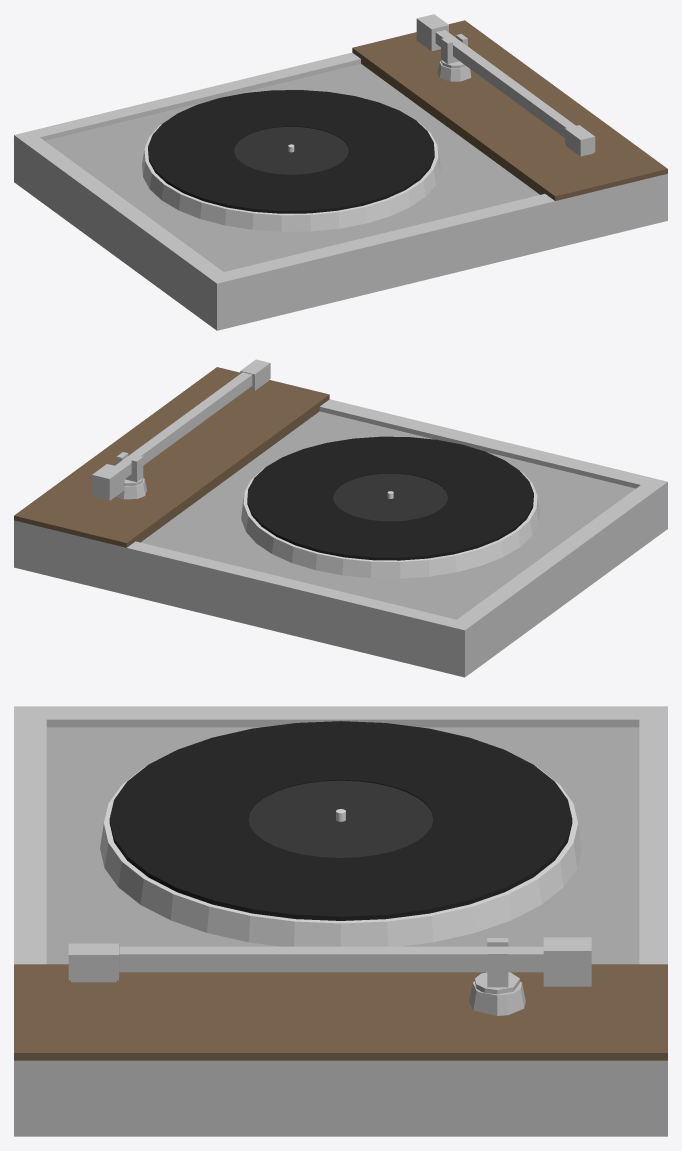
Rendered from Record Player.fbx.
The picture shows the model from 3 angles, top to bottom: view 1: azimuth 30°, elevation 25°; view 2: azimuth 150°, elevation 25°; view 3: azimuth 270°, elevation 25°; orthographic projection. The views are drawn at different scales.
Visible parts, largest first — view 1: Record Player Base, Record Player Spinny Part, Record Player Hand, Record Player Hand Base; view 2: Record Player Base, Record Player Spinny Part, Record Player Hand; view 3: Record Player Base, Record Player Spinny Part, Record Player Hand, Record Player Hand Base.
Boxes of the visible parts, left/top/right/bottom form: Record Player Base: left=14, top=20, right=667, bottom=330; Record Player Spinny Part: left=142, top=90, right=440, bottom=231; Record Player Hand: left=416, top=14, right=595, bottom=156; Record Player Hand Base: left=437, top=59, right=471, bottom=81; Record Player Base: left=14, top=367, right=667, bottom=677; Record Player Spinny Part: left=241, top=436, right=539, bottom=578; Record Player Hand: left=92, top=359, right=270, bottom=500; Record Player Base: left=14, top=706, right=667, bottom=1136; Record Player Spinny Part: left=100, top=721, right=581, bottom=946; Record Player Hand: left=68, top=937, right=591, bottom=987; Record Player Hand Base: left=469, top=972, right=525, bottom=1015.
Size of the model in its own units: 200 by 37.59 by 156.
